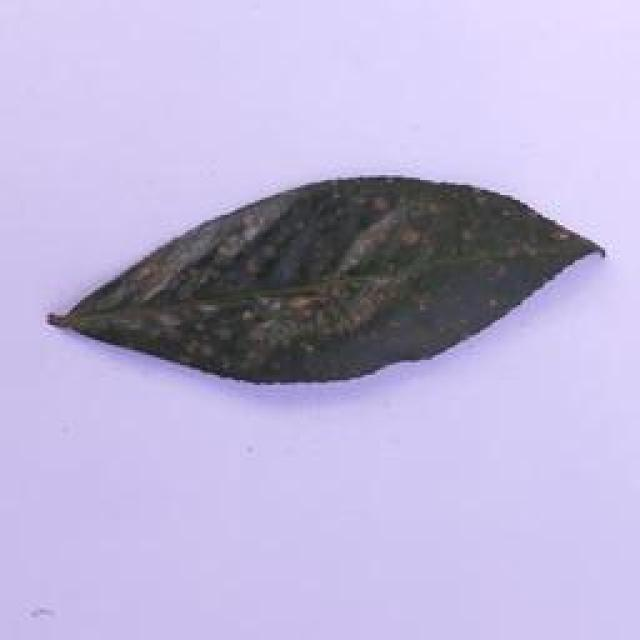Algal Leaf Spot: (39, 167, 603, 393)
